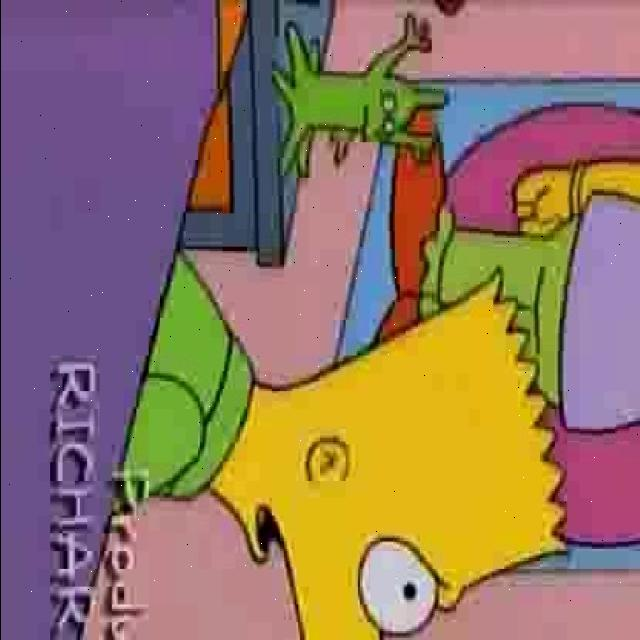Bart Simpson: (205, 260, 568, 640)
